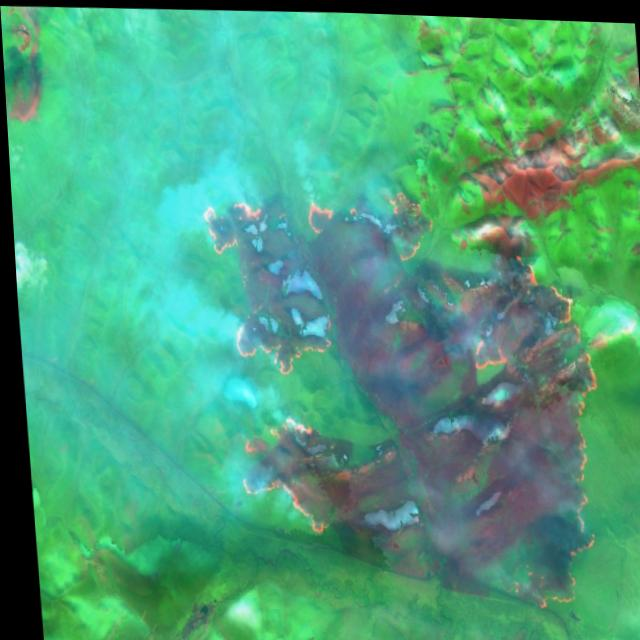fire: (192, 171, 627, 616)
